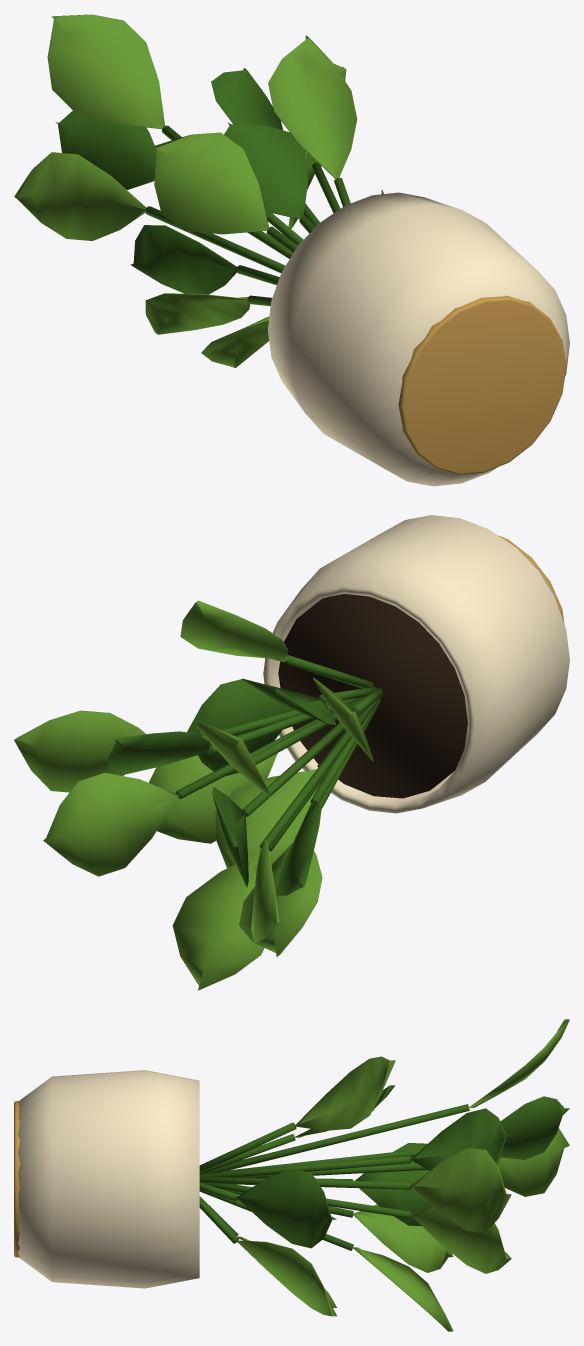
File: LargeNaturalPlant.fbx
3 views of the same model, one above another, from view 1: azimuth 30°, elevation 25°; view 2: azimuth 150°, elevation 25°; view 3: azimuth 270°, elevation 25° (orthographic). The views are drawn at different scales.
Visible parts, largest first — view 1: LargeNaturalPlant; view 2: LargeNaturalPlant; view 3: LargeNaturalPlant.
Boxes of the visible parts, x1,y1,x2,y2 form: LargeNaturalPlant: [14, 14, 569, 486]; LargeNaturalPlant: [14, 515, 569, 990]; LargeNaturalPlant: [14, 1019, 569, 1331].
Bounding box in the file's own units: 0.6728 × 0.7594 × 1.34.
